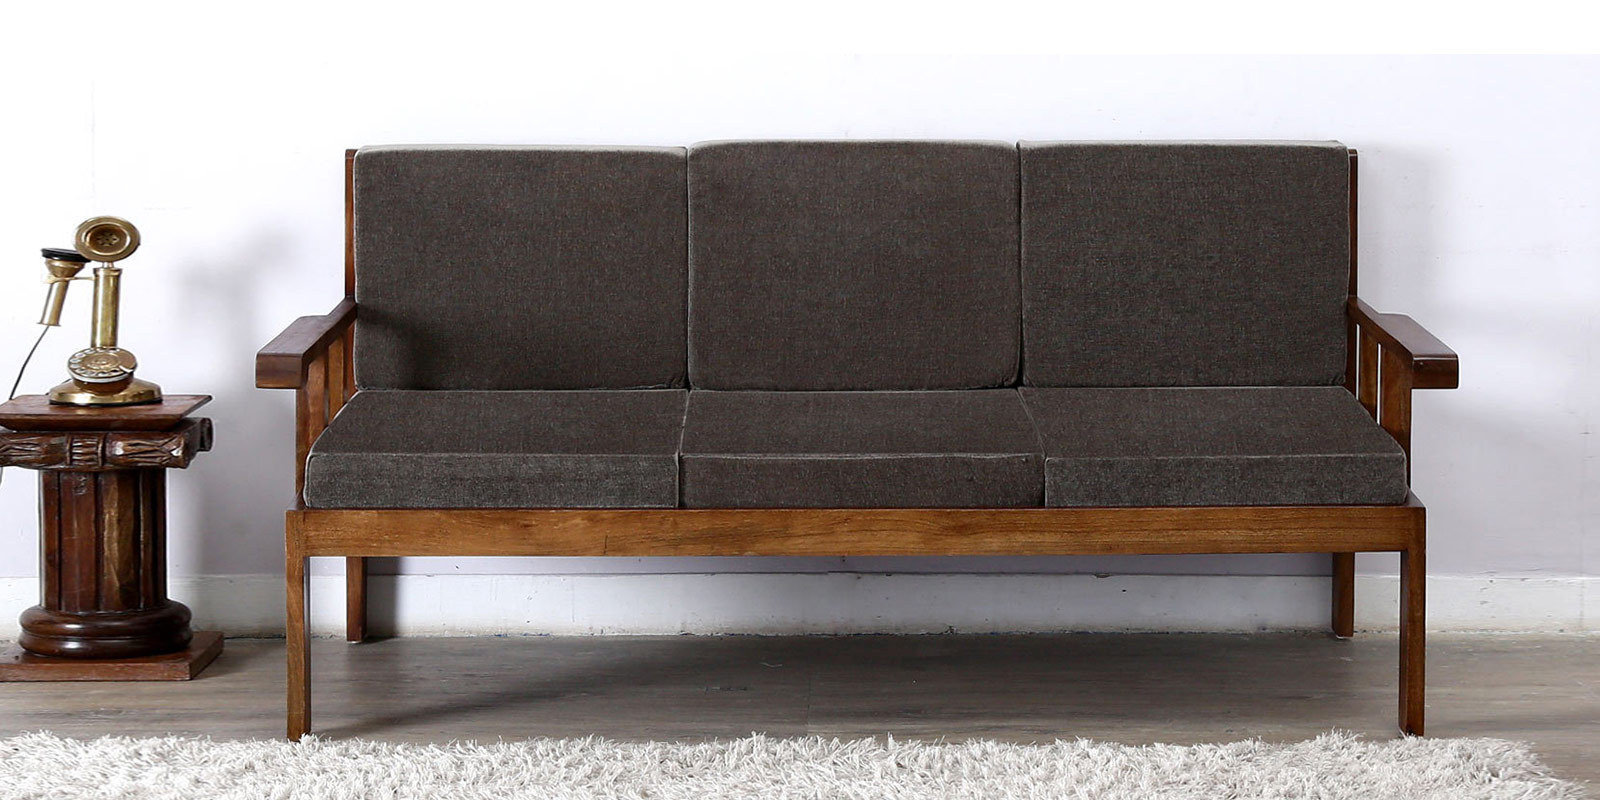Corvallis Three Seater Sofa in Provincial Teak Finish by Woodsworth: (250, 118, 1470, 758)
